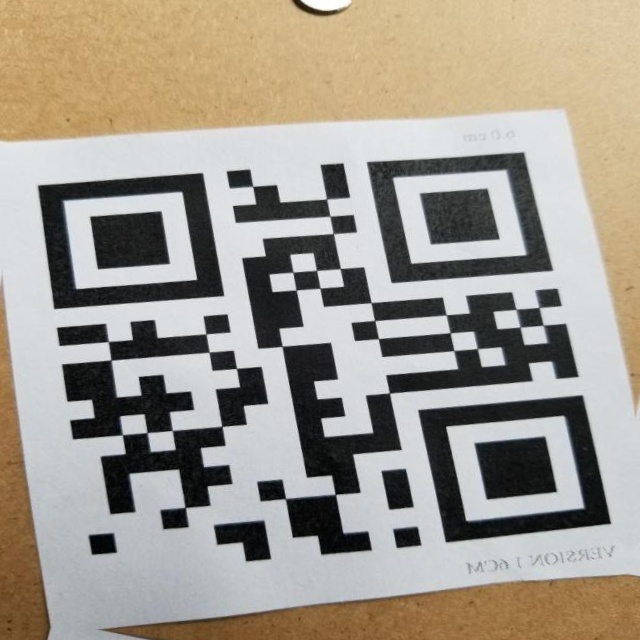qr-code: (11, 104, 637, 603)
